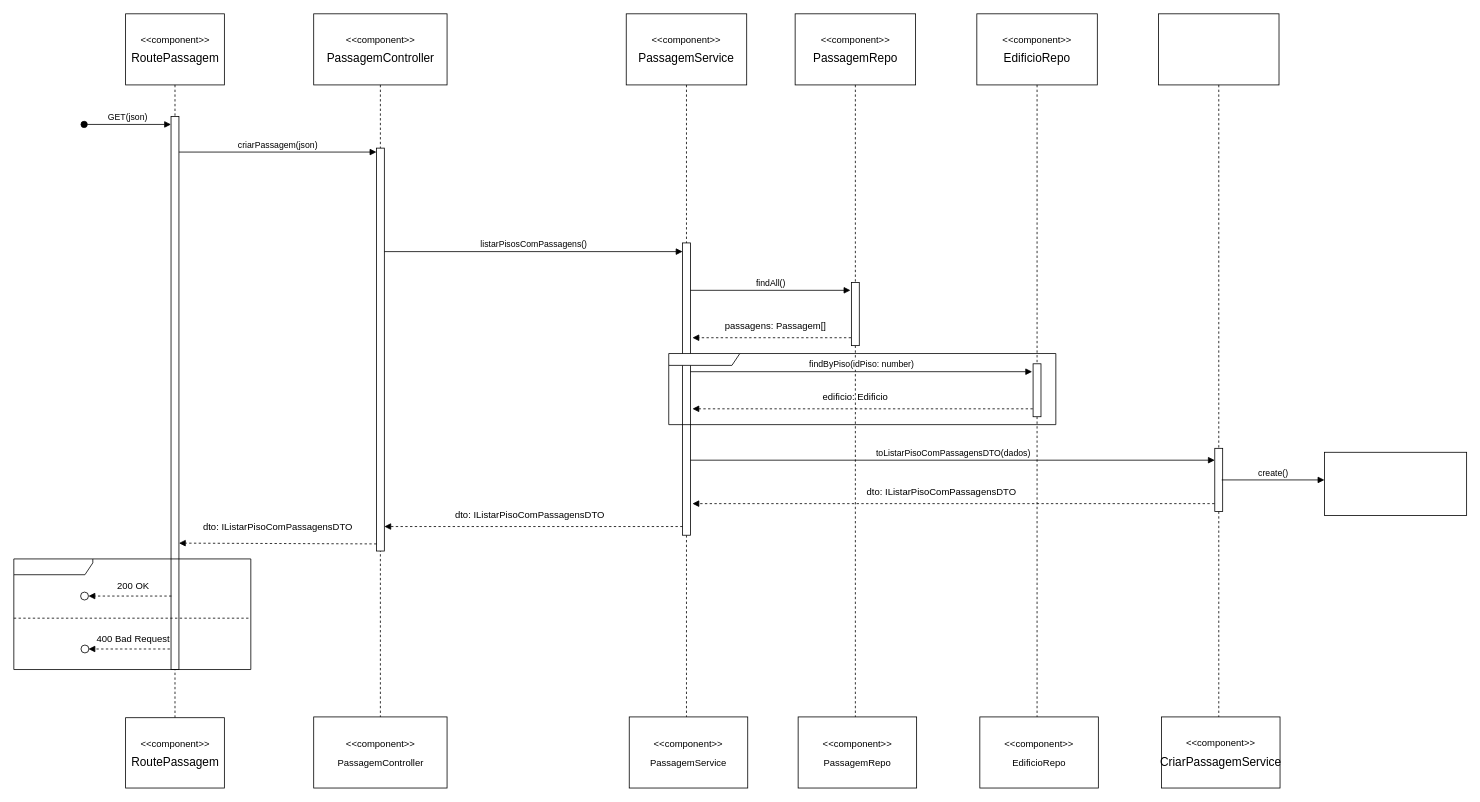
This 1480x802 diagram has some shape labels left out. Here are the shapes that lost their labels. From the top down, the box of each, then its label:
(668, 353, 1056, 425): loop
(1158, 13, 1279, 780): <<component>> PassagemMap
(1324, 451, 1467, 515): <<component>> IListarPisoComPassagensDTO
(13, 558, 251, 670): alt
